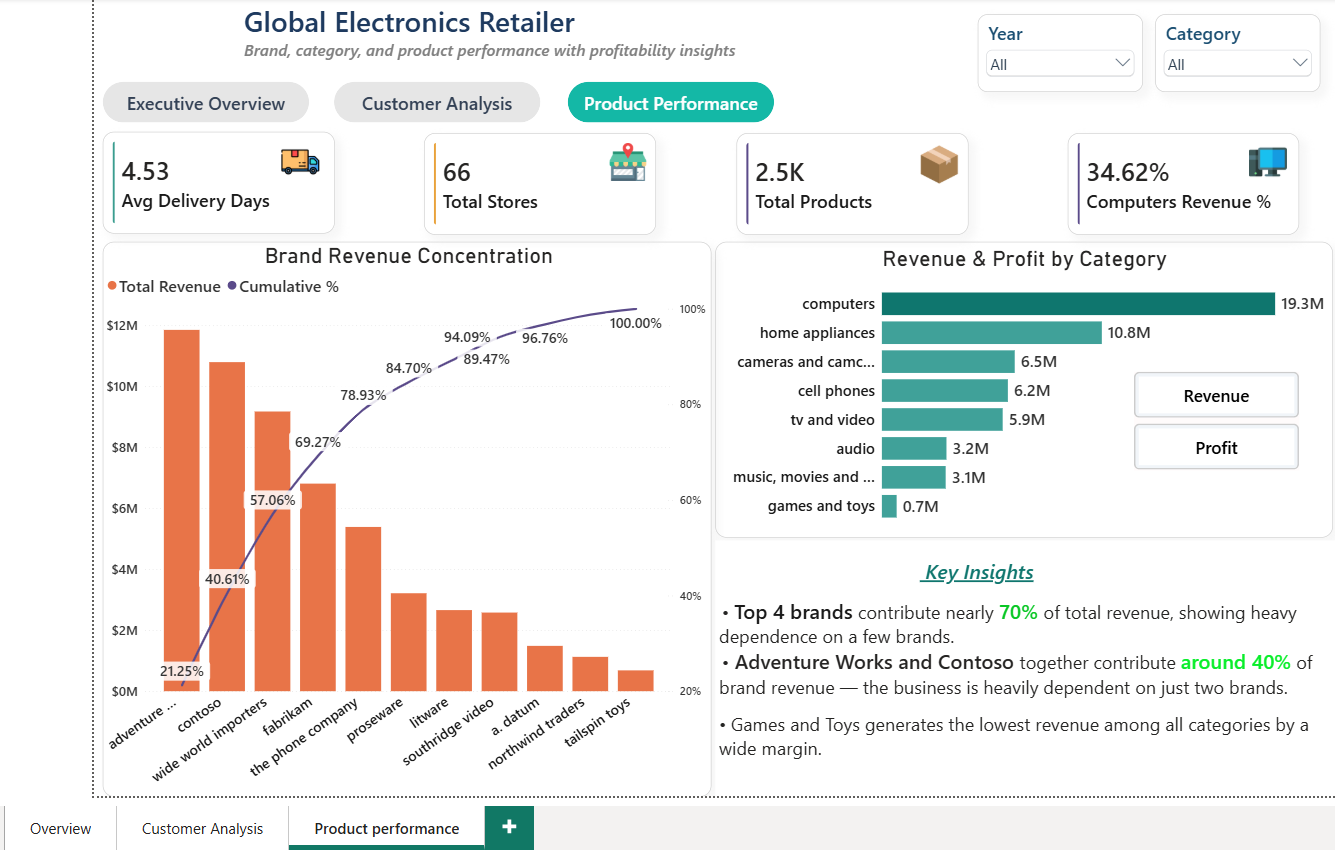

This screenshot's page, from the dashboard's own definition file:
{"tool":"powerbi","page":{"name":"Product performance","canvas":[1650,1060],"ordinal":2},"visuals":[{"type":"textbox","box":[194.1,0,813.1,97.9],"z":0},{"type":"lineStackedColumnComboChart","title":"Brand Revenue Concentration","fields":{"Category":["Products_clean.brand"],"Y":["_Measure.Total Revenue"],"Y2":["_Measure.Cumulative %"]},"box":[11.6,323.6,808.1,736.8],"z":1000},{"type":"cardVisual","fields":{"Data":["_Measure.Avg Delivery Days"]},"box":[11.6,177.6,307.7,135],"z":2000},{"type":"cardVisual","fields":{"Data":["_Measure.Total Stores"]},"box":[437.5,180,307.7,135],"z":3000},{"type":"cardVisual","fields":{"Data":["_Measure.Total Products"]},"box":[853.3,180,307.7,135],"z":4000},{"type":"clusteredBarChart","title":"Revenue & Profit by Category","fields":{"Category":["Products_clean.category"],"Y":["_Measure.Selected Value"]},"box":[824.7,323.6,820,393],"z":5000},{"type":"advancedSlicerVisual","fields":{"Values":["Revenue/Profit.Value"]},"box":[1380.6,496.2,219.2,131.5],"z":6000},{"type":"slicer","fields":{"Values":["Calender Table.Year"]},"box":[1173.2,21.6,219.2,103.3],"z":7000},{"type":"slicer","fields":{"Values":["Products_clean.category"]},"box":[1408.8,21.6,219.2,103.3],"z":8000},{"type":"actionButton","box":[628.9,111.2,274,54],"z":9000},{"type":"actionButton","box":[318.6,111.2,274,54],"z":10000},{"type":"actionButton","box":[11.6,111.2,274,54],"z":11000},{"type":"image","box":[1096.4,196.2,50,50],"z":12000},{"type":"image","box":[683.7,192.5,50,50],"z":13000},{"type":"image","box":[243.9,192.5,60,50],"z":14000},{"type":"cardVisual","fields":{"Data":["_Measure.Top Category Contribution %"]},"box":[1292.6,179.2,307,135],"z":15000},{"type":"image","box":[1533.3,192.5,50.4,50.4],"z":16000},{"type":"textbox","box":[824.7,720.2,826.4,340.2],"z":17000}]}

Visuals, with their boxes on the page's 1650x1060 design canvas (x1, y1, x2, y2). These are canvas units, not pixel positions in the 1335x850 screenshot, which may show the page scaled, cropped or inside an application window:
textbox: [x1=194, y1=0, x2=1007, y2=98]
"Brand Revenue Concentration" lineStackedColumnComboChart: [x1=12, y1=324, x2=820, y2=1060]
cardVisual - _Measure.Avg Delivery Days: [x1=12, y1=178, x2=319, y2=313]
cardVisual - _Measure.Total Stores: [x1=438, y1=180, x2=745, y2=315]
cardVisual - _Measure.Total Products: [x1=853, y1=180, x2=1161, y2=315]
"Revenue & Profit by Category" clusteredBarChart: [x1=825, y1=324, x2=1645, y2=717]
advancedSlicerVisual - Revenue/Profit.Value: [x1=1381, y1=496, x2=1600, y2=628]
slicer - Calender Table.Year: [x1=1173, y1=22, x2=1392, y2=125]
slicer - Products_clean.category: [x1=1409, y1=22, x2=1628, y2=125]
actionButton: [x1=629, y1=111, x2=903, y2=165]
actionButton: [x1=319, y1=111, x2=593, y2=165]
actionButton: [x1=12, y1=111, x2=286, y2=165]
image: [x1=1096, y1=196, x2=1146, y2=246]
image: [x1=684, y1=192, x2=734, y2=242]
image: [x1=244, y1=192, x2=304, y2=242]
cardVisual - _Measure.Top Category Contribution %: [x1=1293, y1=179, x2=1600, y2=314]
image: [x1=1533, y1=192, x2=1584, y2=243]
textbox: [x1=825, y1=720, x2=1651, y2=1060]
